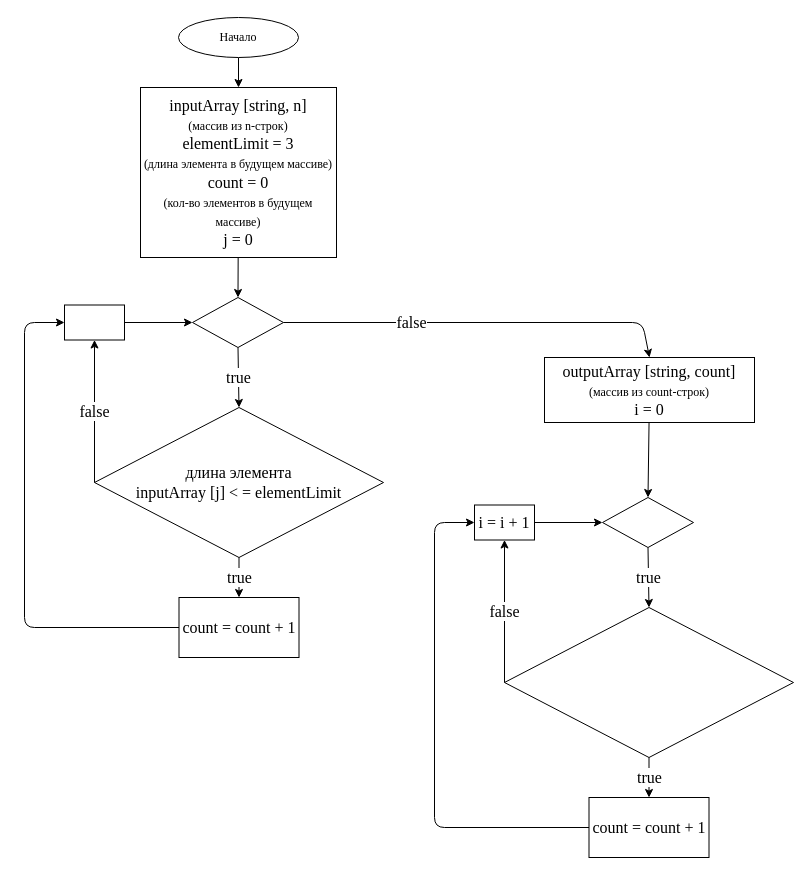
The diagram is 811 pixels wide and 875 high, and some of its shapes have lost their labels. Each missing label, with the box of its shape:
i < n: (602, 496, 694, 548)
j < n: (192, 296, 284, 348)
j = j + 1: (64, 304, 124, 340)
длина элемента inputArray [i] < = elementLimit: (504, 606, 794, 758)
